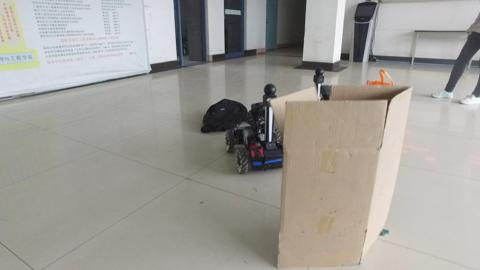box: (286, 84, 415, 270)
chariot: (226, 83, 286, 170)
